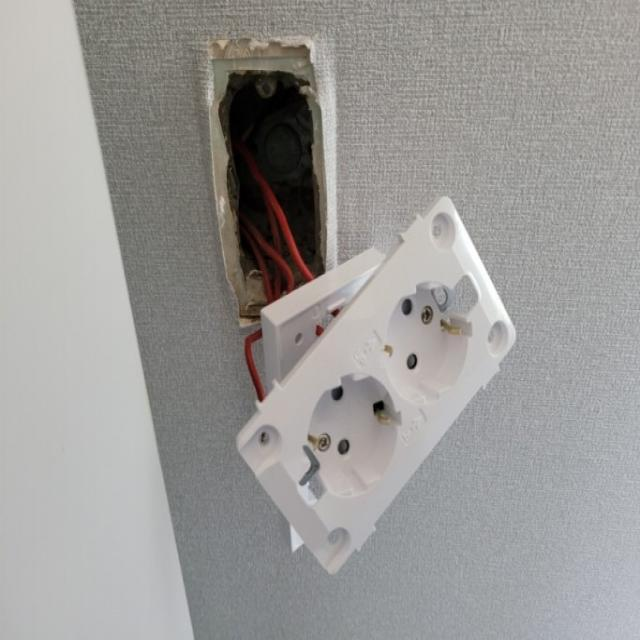typeb: (241, 232, 522, 591)
